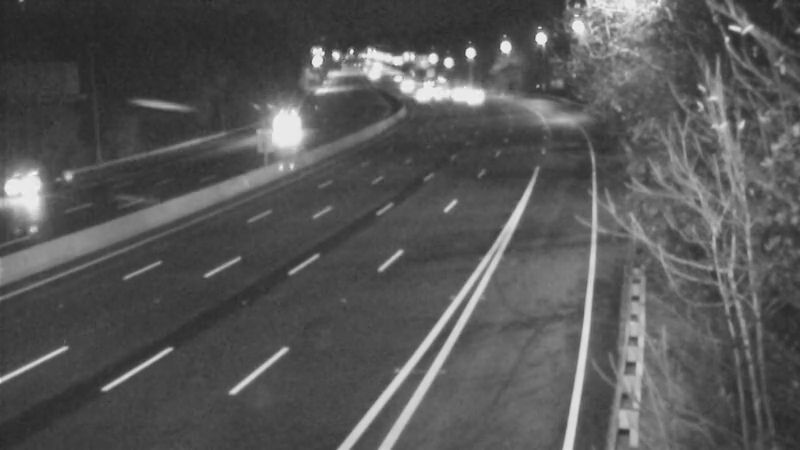vehicle: (1, 144, 77, 224), (449, 72, 499, 122), (424, 72, 474, 122), (398, 69, 448, 119), (261, 96, 311, 146)
